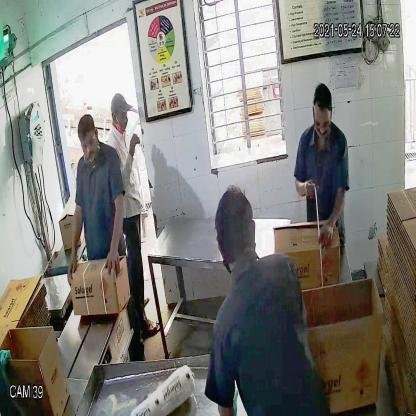goggles: (78, 135, 98, 152)
no_goggles: (109, 106, 129, 125)
